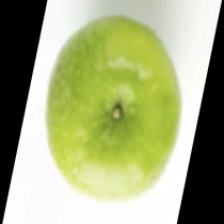apple: (13, 43, 189, 179)
